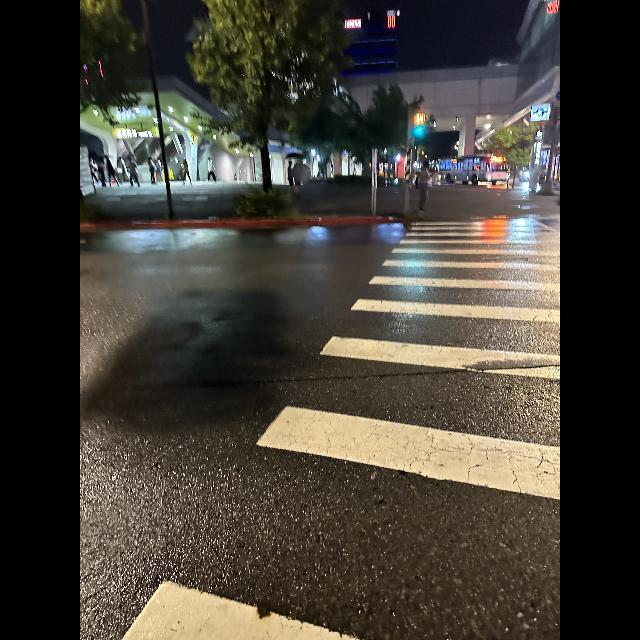sidewalk: (120, 216, 560, 640)
